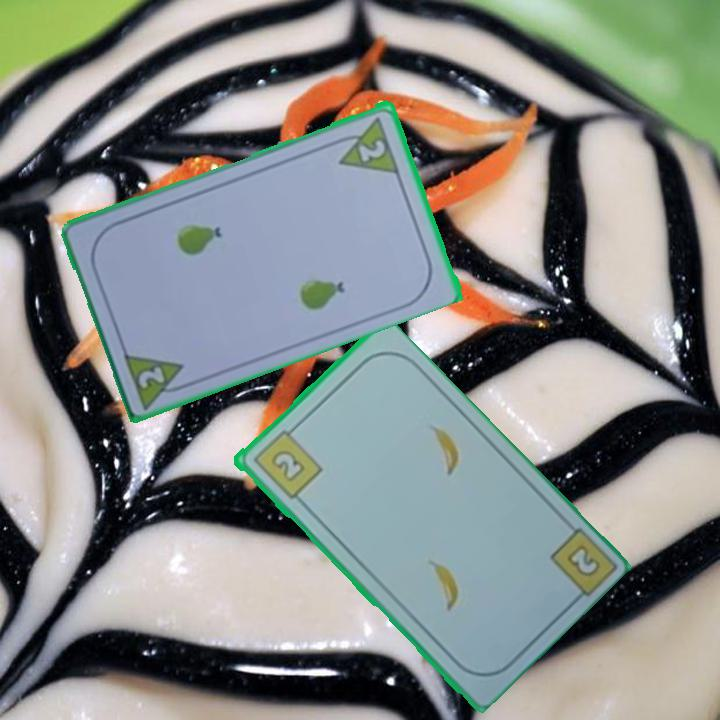2b: (248, 422, 325, 502), (562, 540, 603, 580)
2p: (119, 347, 195, 410), (329, 112, 403, 176)
